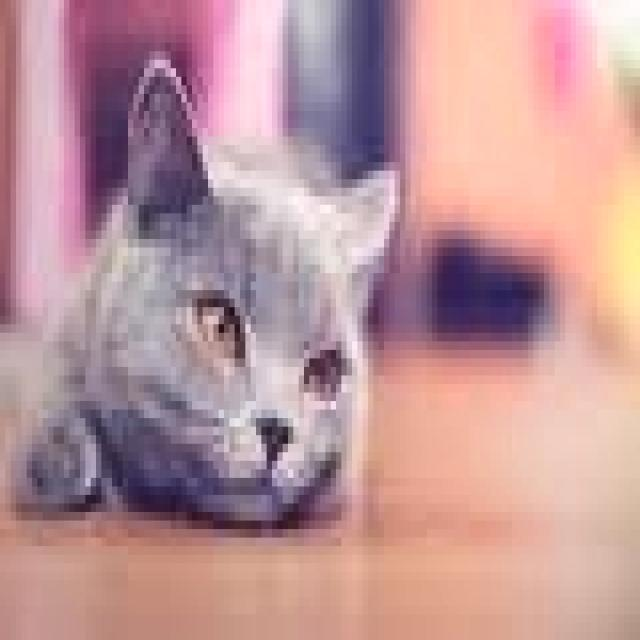KEDI: (8, 52, 406, 520)
